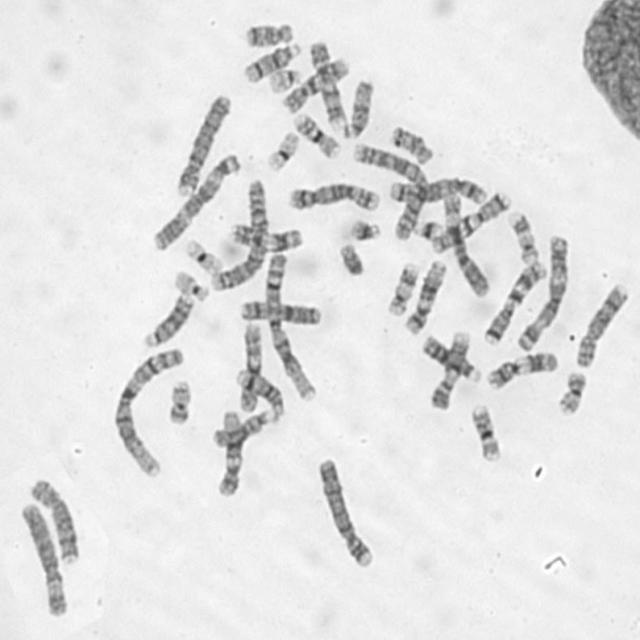A1: (110, 344, 186, 480), (260, 247, 320, 404)
A2: (349, 140, 430, 242), (208, 176, 269, 293)
A3: (149, 149, 241, 253), (514, 231, 570, 351)
B4: (315, 454, 377, 570), (172, 89, 233, 200)
B5: (384, 175, 490, 207), (286, 179, 381, 214)
C10: (279, 54, 351, 116), (234, 318, 264, 414)
C11: (484, 347, 560, 391), (227, 219, 303, 253)
C12: (402, 256, 448, 334), (213, 408, 244, 498)
C6: (18, 499, 70, 619), (439, 188, 492, 298)
C7: (478, 258, 548, 347), (427, 186, 513, 254)
C8: (572, 280, 630, 369), (27, 474, 82, 565)
C9: (426, 328, 474, 411), (306, 38, 348, 132)
D13: (140, 288, 195, 349), (420, 331, 481, 384)
D14: (240, 39, 302, 84), (234, 365, 285, 418)
D15: (210, 406, 279, 449), (340, 76, 376, 140)
E16: (290, 107, 343, 161), (468, 399, 503, 464)
E17: (385, 259, 419, 318), (506, 206, 539, 266)
E18: (388, 121, 435, 167), (243, 19, 294, 48)
F19: (182, 235, 224, 276), (263, 128, 300, 173)
F20: (554, 368, 588, 417), (164, 376, 194, 427)
G21: (348, 215, 382, 242), (411, 216, 444, 242)
G22: (172, 266, 210, 303), (265, 64, 303, 95)
X: (235, 296, 324, 326)
Y: (337, 240, 366, 277)
